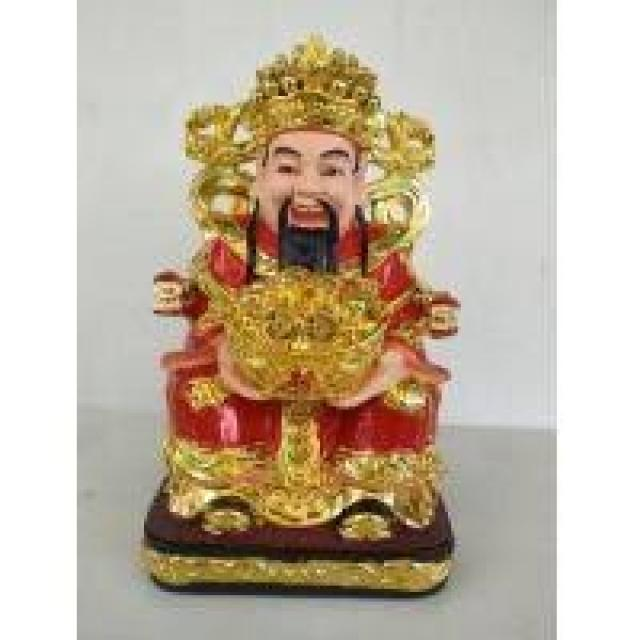Cai shen: (182, 34, 425, 502)
